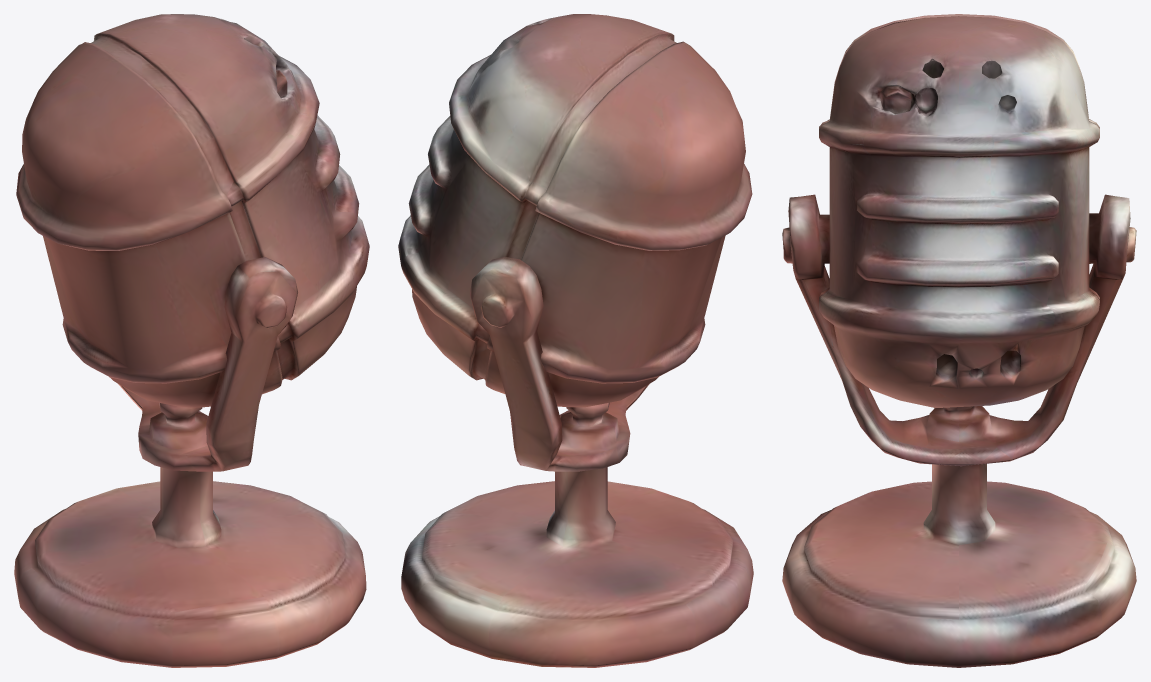
Rendered from desk-marketing.glb.
The picture shows the model from 3 angles, left to right: view 1: azimuth 30°, elevation 25°; view 2: azimuth 150°, elevation 25°; view 3: azimuth 270°, elevation 25°; orthographic projection.
Visible parts, largest first — view 1: tripo_node_bac77ced-8a7b-4f20-80c1-49ef5f62fa16; view 2: tripo_node_bac77ced-8a7b-4f20-80c1-49ef5f62fa16; view 3: tripo_node_bac77ced-8a7b-4f20-80c1-49ef5f62fa16.
Boxes of the visible parts, box(x1,y1,x2,y2) form: tripo_node_bac77ced-8a7b-4f20-80c1-49ef5f62fa16: box(14, 14, 369, 667); tripo_node_bac77ced-8a7b-4f20-80c1-49ef5f62fa16: box(398, 14, 753, 667); tripo_node_bac77ced-8a7b-4f20-80c1-49ef5f62fa16: box(782, 14, 1136, 667).
Bounding box in the file's own units: 0.5801 × 0.998 × 0.5684.
1 material, 1 textured.
